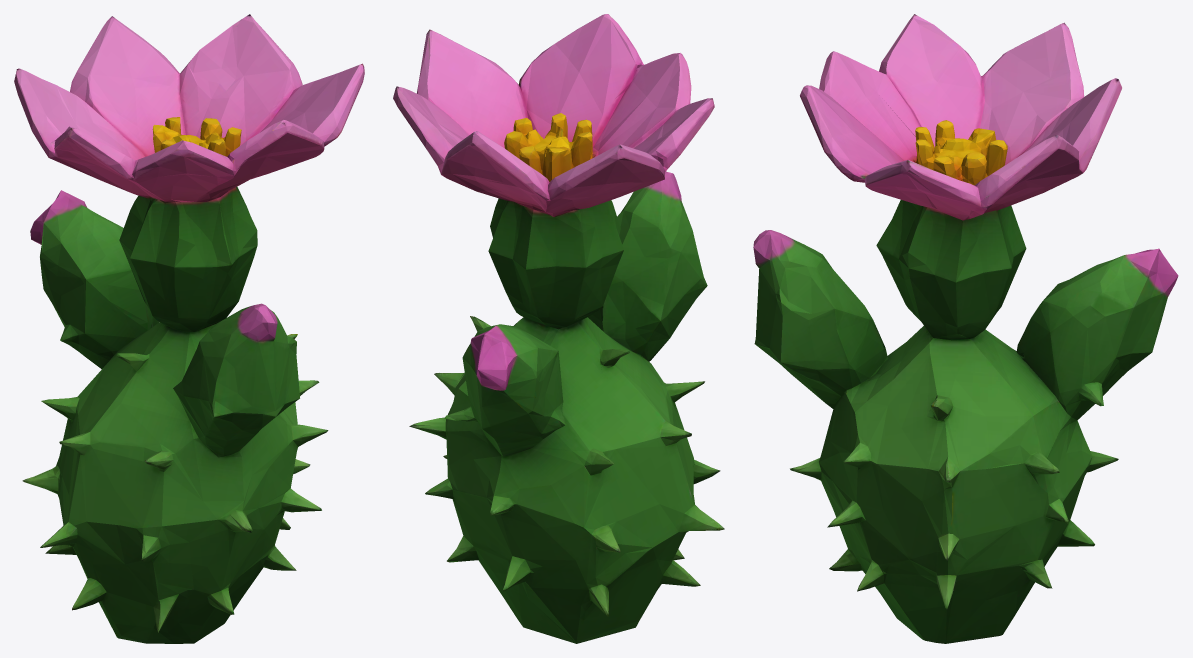
Rendered from prickly_pear_blossom.glb.
The picture shows the model from 3 angles, left to right: view 1: azimuth 30°, elevation 25°; view 2: azimuth 150°, elevation 25°; view 3: azimuth 270°, elevation 25°; orthographic projection. The views are drawn at different scales.
Parts seen in each view (by area): view 1: world; view 2: world; view 3: world.
Boxes of the visible parts, box(x1,y1,x2,y2) form: world: box(14, 14, 364, 643); world: box(393, 14, 724, 643); world: box(753, 14, 1178, 643).
Size of the model in its own units: 0.6001 by 1 by 0.6939.
1 material, 1 textured.
